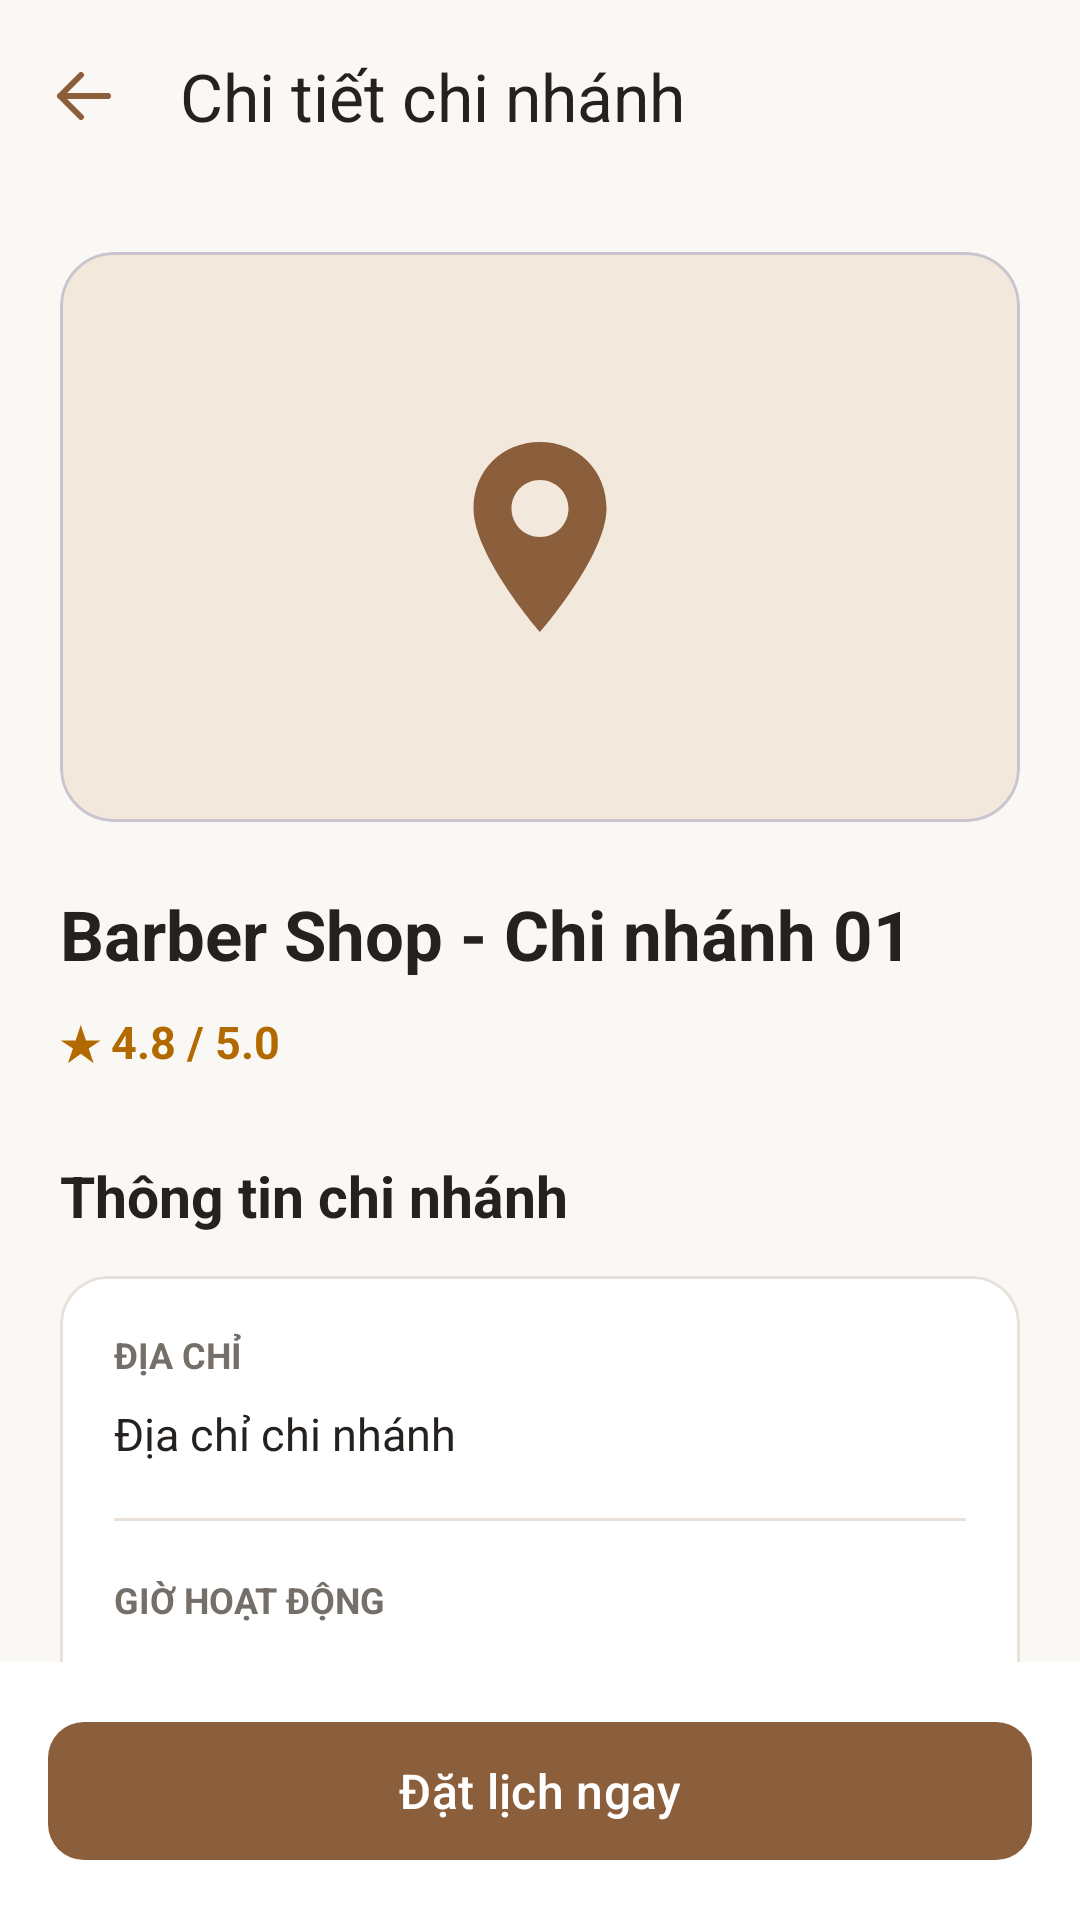

Point at icon controls on the screen. Image size 1080x1920, points as [x,y].
Biểu tượng chi nhánh: [540,537]
